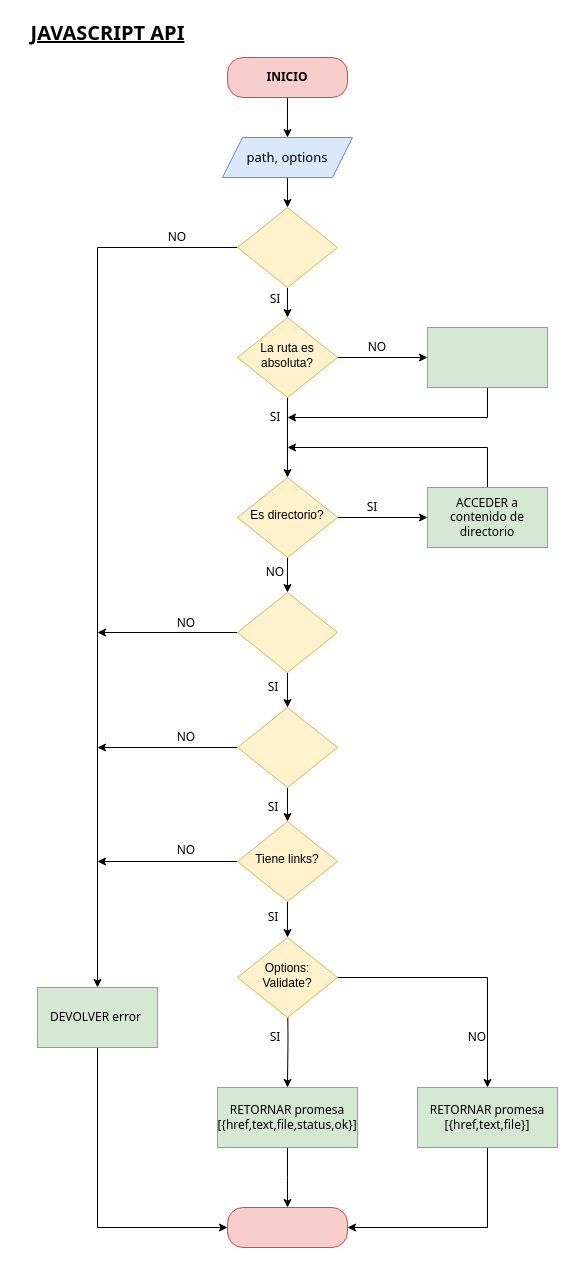
This 575x1265 diagram has some shape labels left out. The box of each missing label's shape, as (x1, y1, x2, y2) in pixels:
CONVERTIR ruta relativa a absoluta: (426, 326, 548, 388)
Es un archivo MD?: (236, 706, 338, 788)
FIN: (226, 1206, 348, 1248)
Hay archivo?: (236, 592, 338, 672)
La ruta existe?: (236, 206, 338, 288)
